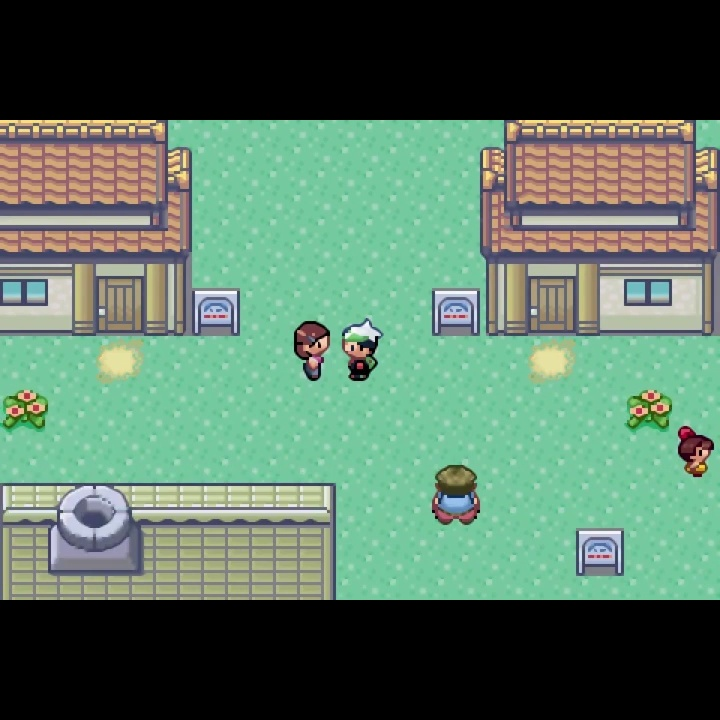house: (478, 119, 720, 338), (1, 119, 195, 341), (1, 481, 339, 600)
npc: (429, 459, 485, 528), (338, 316, 385, 384), (290, 317, 333, 383), (675, 423, 716, 480)
